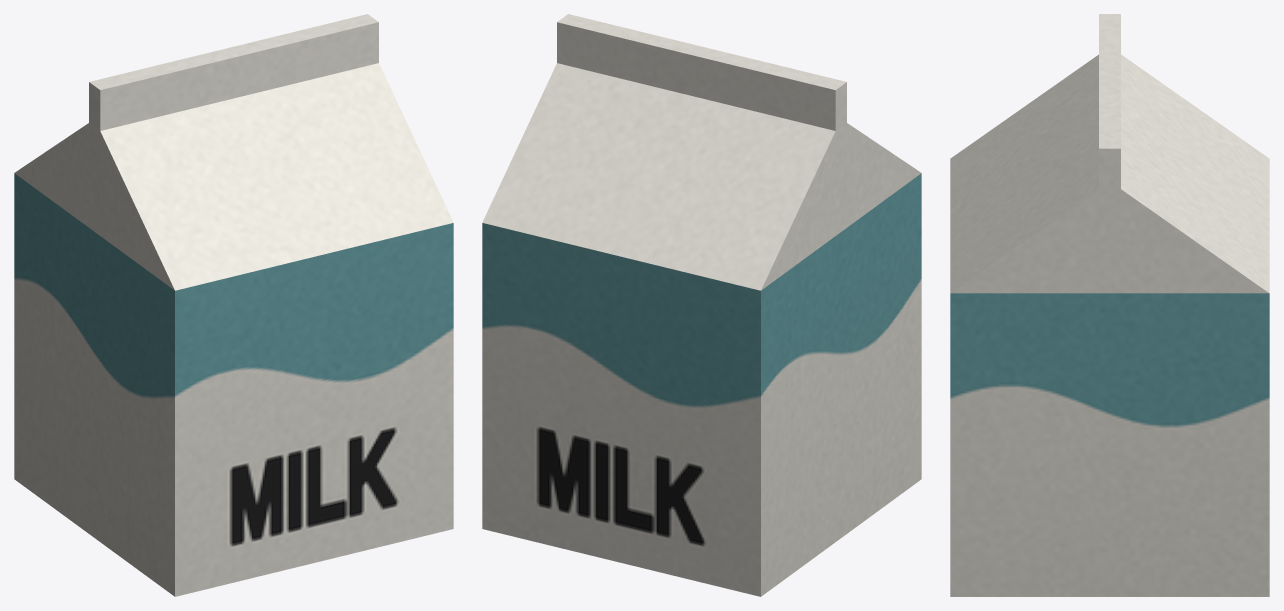
Rendered from Food_Milk.fbx.
3 views of the same model, side by side, from view 1: azimuth 30°, elevation 25°; view 2: azimuth 150°, elevation 25°; view 3: azimuth 270°, elevation 25° (orthographic).
Parts seen in each view (by area): view 1: Food_Milk; view 2: Food_Milk; view 3: Food_Milk.
Part boxes in pixels (x1,y1,x2,y2): Food_Milk: (14,14,453,596); Food_Milk: (482,14,921,596); Food_Milk: (950,14,1269,596).
Size of the model in its own units: 0.26 by 0.403 by 0.26.
Materials: 1 (1 with a texture image).
